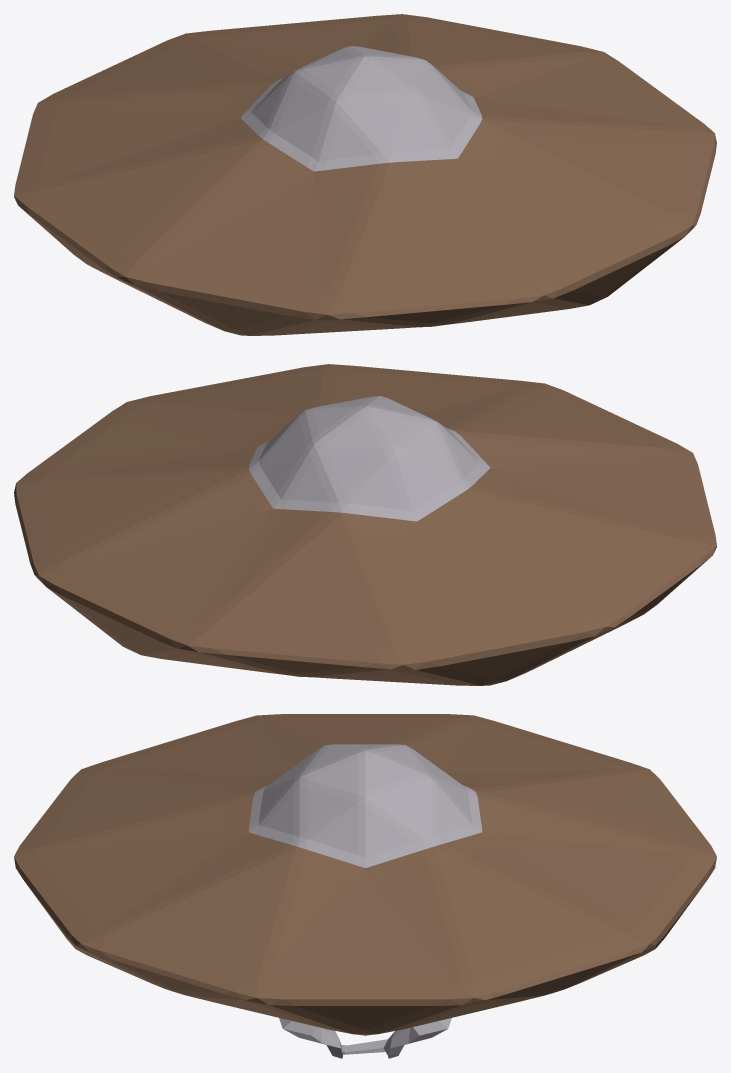
The model's file is RoundShield.fbx.
3 renders of one model, top to bottom at view 1: azimuth 30°, elevation 25°; view 2: azimuth 150°, elevation 25°; view 3: azimuth 270°, elevation 25°, orthographic.
Parts seen in each view (by area): view 1: Icosphere; view 2: Icosphere; view 3: Icosphere.
Part boxes in pixels (bbox=[...]): Icosphere: bbox=[14, 14, 716, 335]; Icosphere: bbox=[14, 364, 716, 685]; Icosphere: bbox=[14, 714, 716, 1058].
Bounding box in the file's own units: 78.96 × 25.87 × 82.04.
